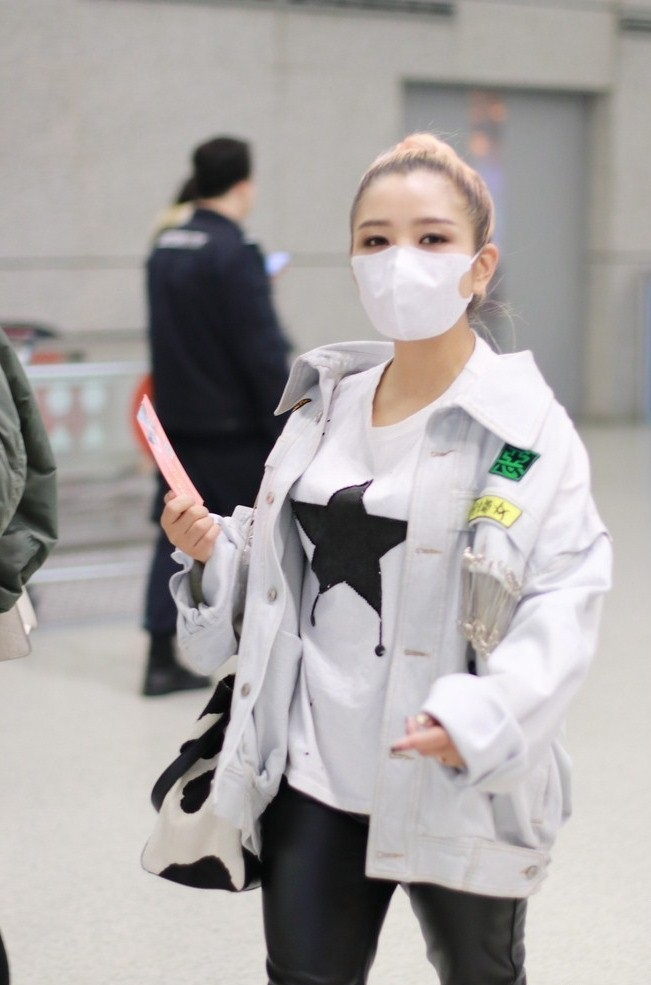face_mask: (352, 158, 472, 340)
